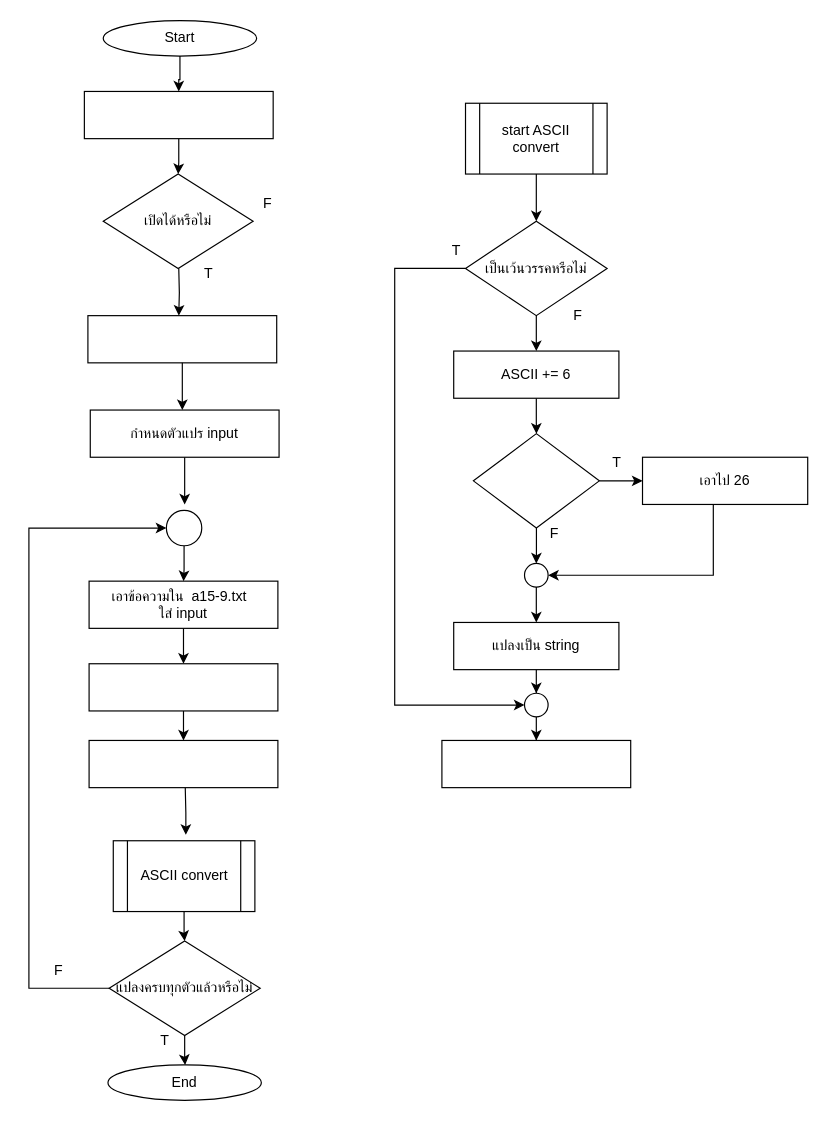
This 828x1121 diagram has some shape labels left out. The shapes that lost their labels are listed below. From the top down, each one's centre as x and y in pixels, then its label:
pixel 178 114: เปิดไฟล์ a15-9.txt
pixel 182 338: กำหนดตัวแปร ASCII
pixel 535 480: ASCII เกิน 90 หรือไม่
pixel 183 687: แปลงข้อมูลเป็น ASCII
pixel 183 763: เก็บที่แปลงไว้ใน arr ASCII
pixel 536 763: ปริ้นค่า
